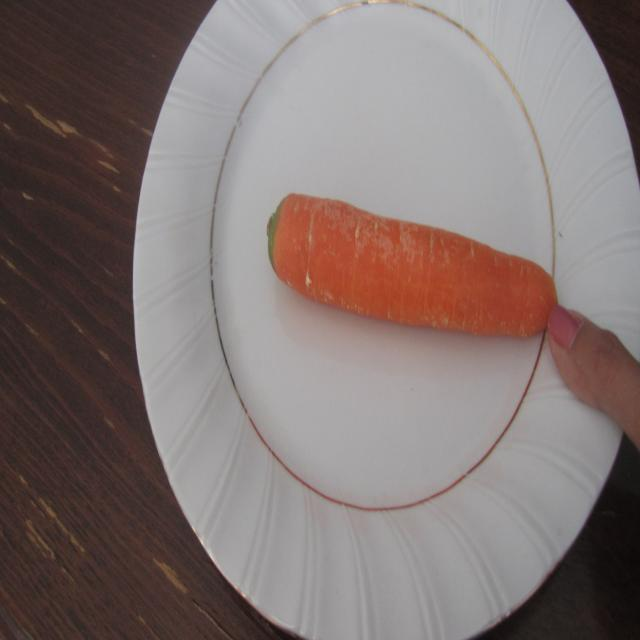carrot: (252, 188, 554, 346)
